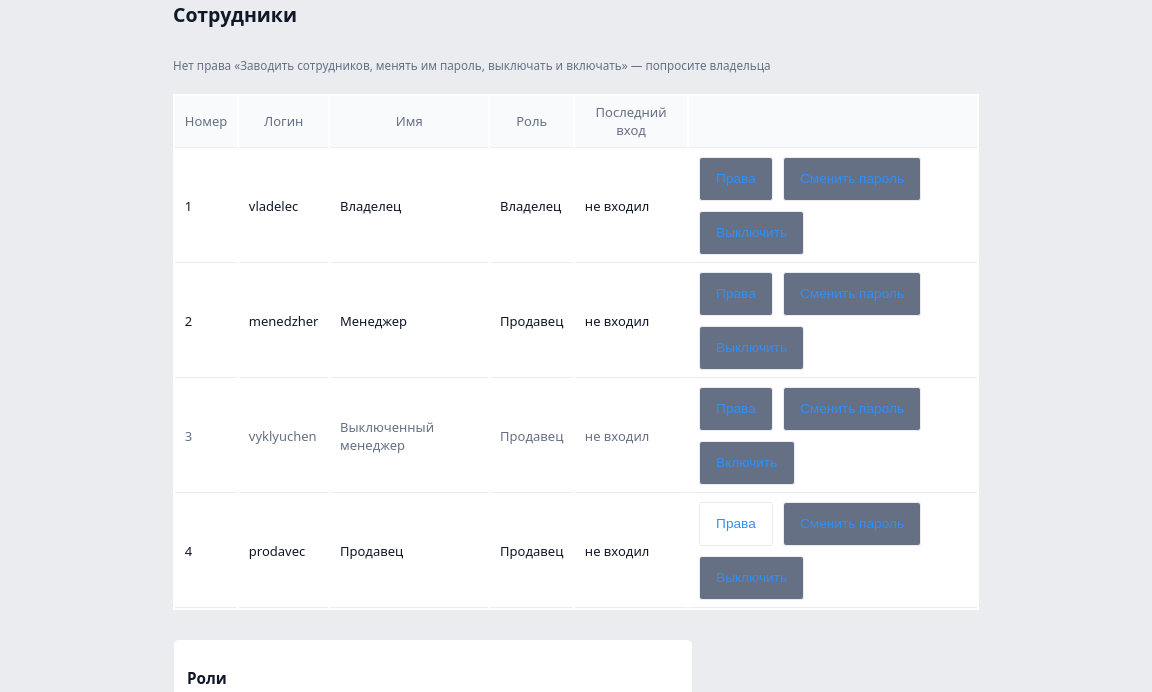
Test: учётная запись шире своих — погашена с причиной › без права на права поверх роли галочки погашены с причиной
Expected: the text "prodavec" is shown, left=239, top=495, right=328, bottom=608
Click the button with aria-label "Права: prodavec" at (736, 524), box left=699, top=502, right=773, bottom=546
(page scrolled)
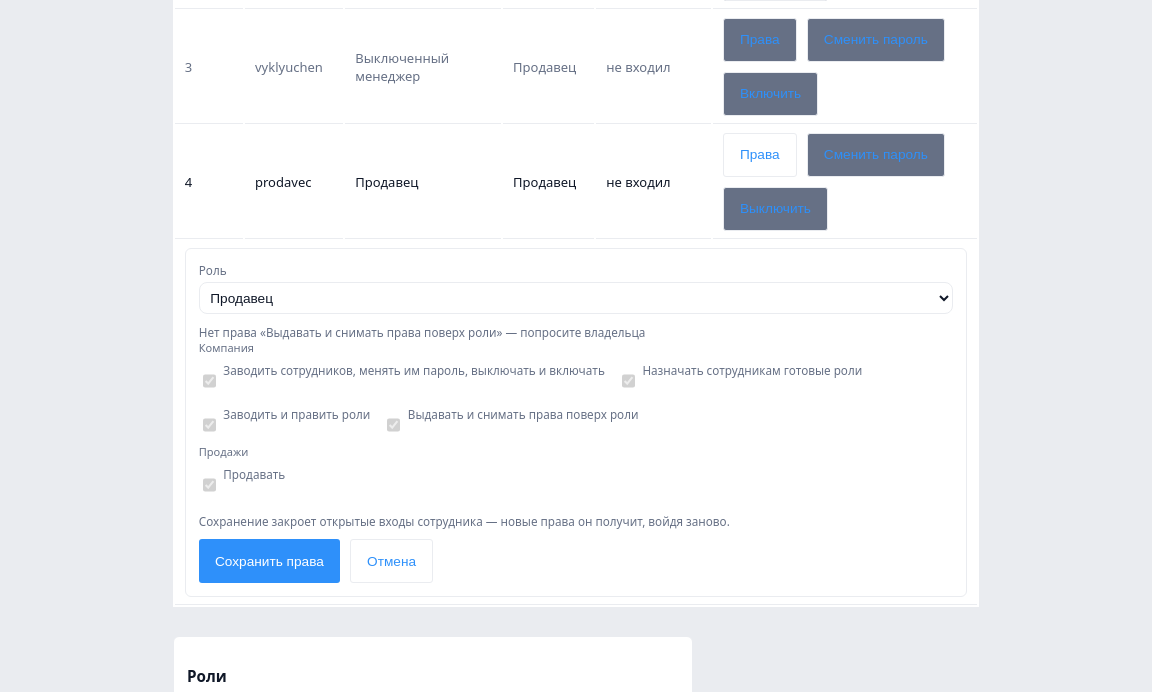
Expected: the dropdown labelled "Роль" is enabled, left=199, top=282, right=953, bottom=314
Expected: the checkbox labelled "Продавать" is disabled, left=203, top=469, right=216, bottom=501
Expected: the text "Нет права «Выдавать и снимать права поверх роли»" is shown, left=199, top=324, right=645, bottom=340
